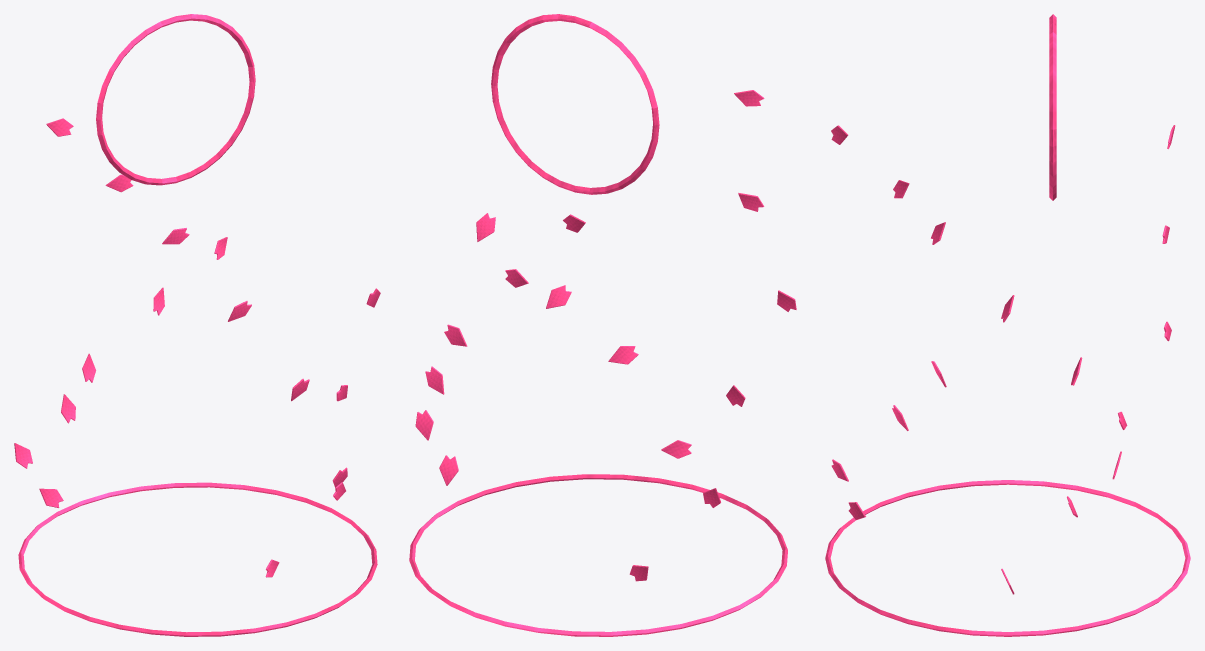
The model's file is aura-sakura.glb.
3 renders of one model, left to right at view 1: azimuth 30°, elevation 25°; view 2: azimuth 150°, elevation 25°; view 3: azimuth 270°, elevation 25°, orthographic. The views are drawn at different scales.
Parts seen in each view (by area): view 1: GroundRing, BackHalo; view 2: GroundRing, BackHalo; view 3: GroundRing, BackHalo.
Boxes of the visible parts, left/top/right/bottom form: GroundRing: left=18, top=482, right=377, bottom=636; BackHalo: left=96, top=14, right=255, bottom=185; GroundRing: left=409, top=474, right=787, bottom=636; BackHalo: left=491, top=14, right=659, bottom=194; GroundRing: left=825, top=480, right=1190, bottom=636; BackHalo: left=1049, top=14, right=1056, bottom=200.
Size of the model in its own units: 0.812 by 1.32 by 0.812.
Materials: 1 (1 with a texture image).
